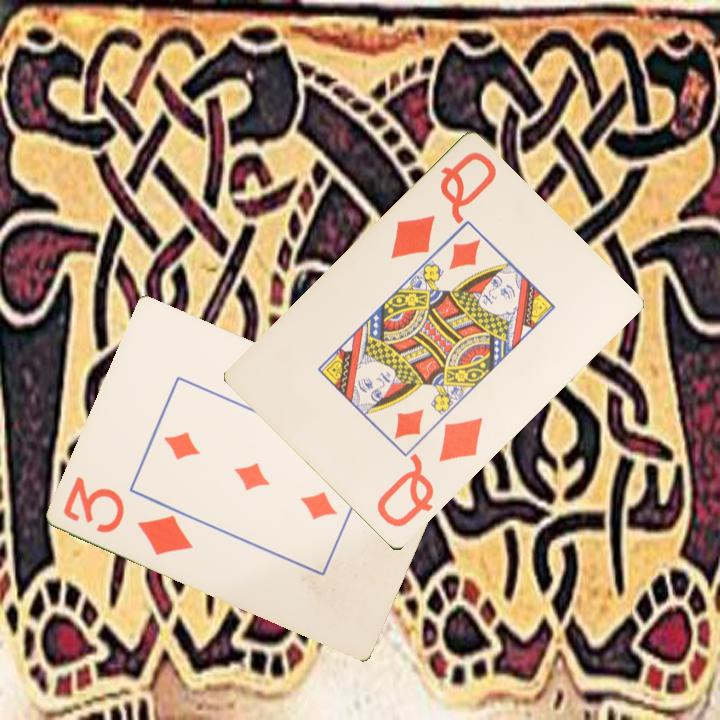3d: (60, 472, 197, 558)
Qd: (373, 414, 486, 531), (386, 148, 500, 263)
